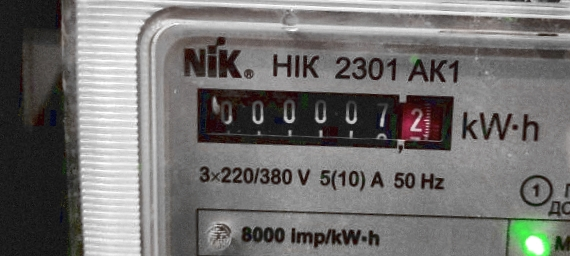0: (216, 97, 235, 125), (310, 96, 329, 124), (248, 97, 266, 125), (279, 96, 297, 124), (342, 97, 359, 126)
2: (407, 106, 424, 133)
7: (373, 98, 390, 129)
screen: (182, 74, 465, 162)
